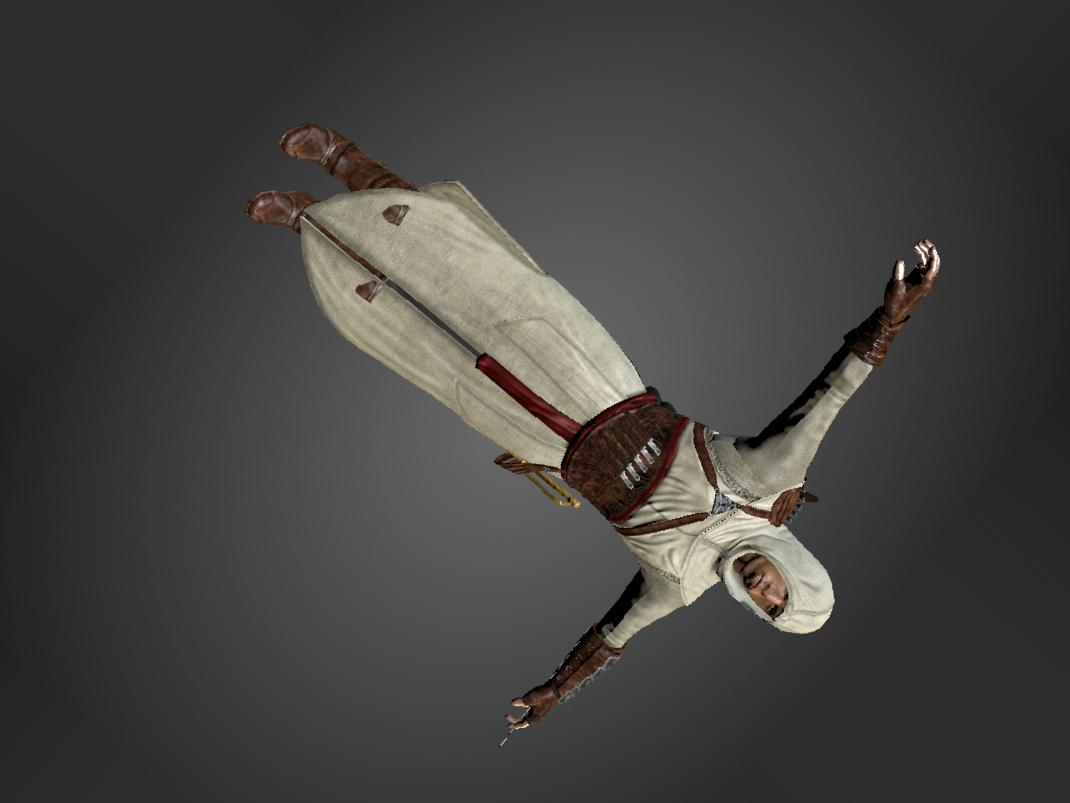clip: (352, 274, 387, 309), (381, 201, 416, 227)
